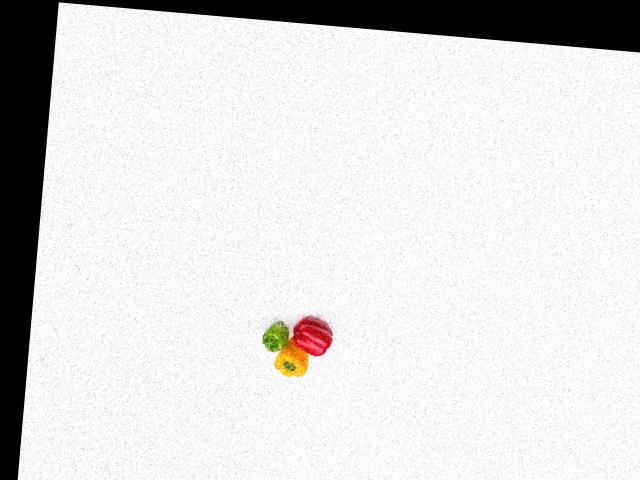bell_pepper: (254, 318, 291, 355)
